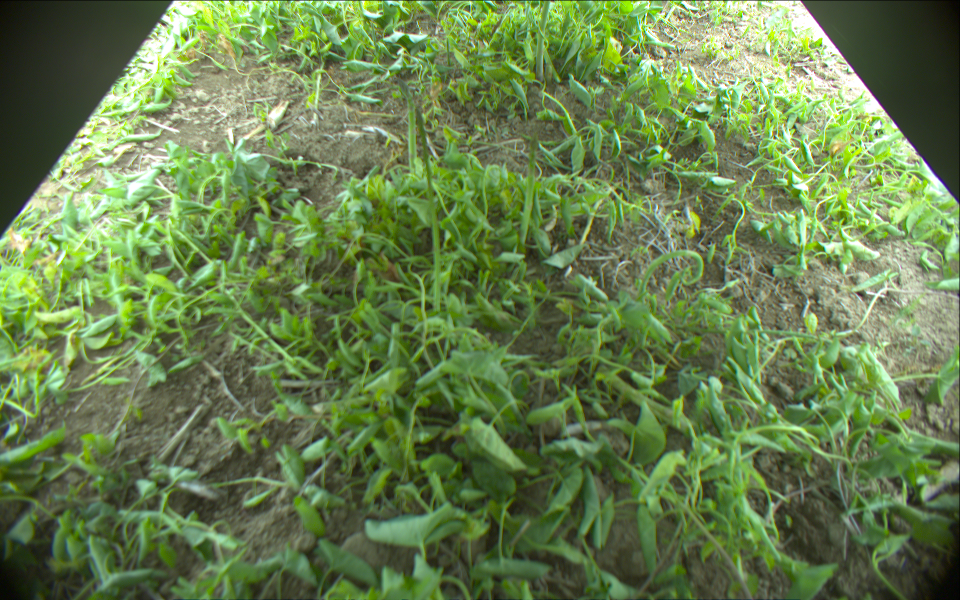aspa: (416, 107, 439, 320), (389, 77, 413, 172), (519, 132, 538, 251), (535, 1, 550, 81)
